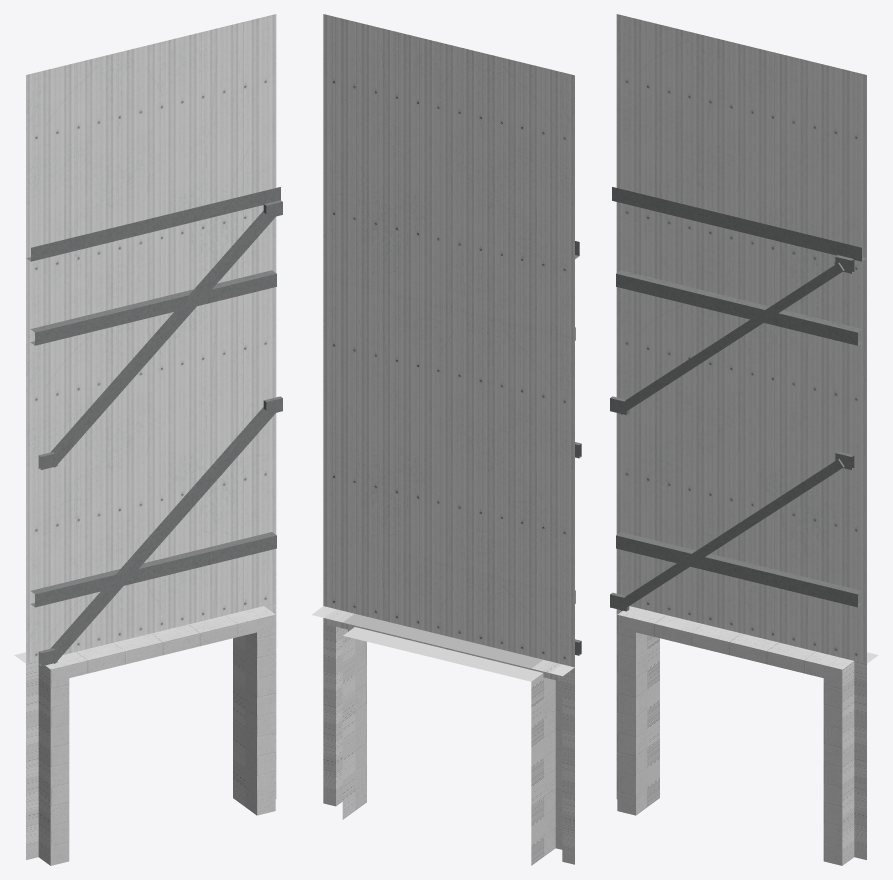
The model's file is warehouse_wall_longitudinal_doubledoor.glb.
The picture shows the model from 3 angles, left to right: view 1: azimuth 30°, elevation 25°; view 2: azimuth 150°, elevation 25°; view 3: azimuth 330°, elevation 25°; orthographic projection.
Parts seen in each view (by area): view 1: Plane.100, Plane.098, Plane.057, Plane.099, Cube.230, Cube.229, Cube.228, Cube.227, Cube.232; view 2: Plane.100, Plane.098, Plane.057, Plane.099; view 3: Plane.100, Plane.098, Plane.057, Plane.099, Cube.228, Cube.227, Cube.232, Cube.229, Cube.230.
Part boxes in pixels (x1,y1,x2,y2): Plane.100: [26, 14, 276, 336]; Plane.098: [26, 287, 276, 598]; Plane.057: [14, 603, 276, 865]; Plane.099: [26, 549, 276, 663]; Cube.230: [38, 396, 282, 666]; Cube.229: [38, 200, 282, 469]; Cube.228: [30, 270, 276, 345]; Cube.227: [30, 532, 276, 607]; Cube.232: [26, 187, 280, 261]; Plane.100: [323, 14, 574, 338]; Plane.098: [323, 277, 574, 594]; Plane.057: [312, 606, 574, 865]; Plane.099: [323, 534, 574, 681]; Plane.100: [616, 14, 866, 336]; Plane.098: [616, 287, 866, 598]; Plane.057: [616, 606, 878, 865]; Plane.099: [616, 549, 866, 664]; Cube.228: [616, 270, 862, 345]; Cube.227: [616, 532, 862, 607]; Cube.232: [612, 187, 866, 261]; Cube.229: [610, 255, 854, 415]; Cube.230: [610, 451, 854, 611].
Bounding box in the file's own units: 12 × 36 × 2.
3 materials, 3 textured.
